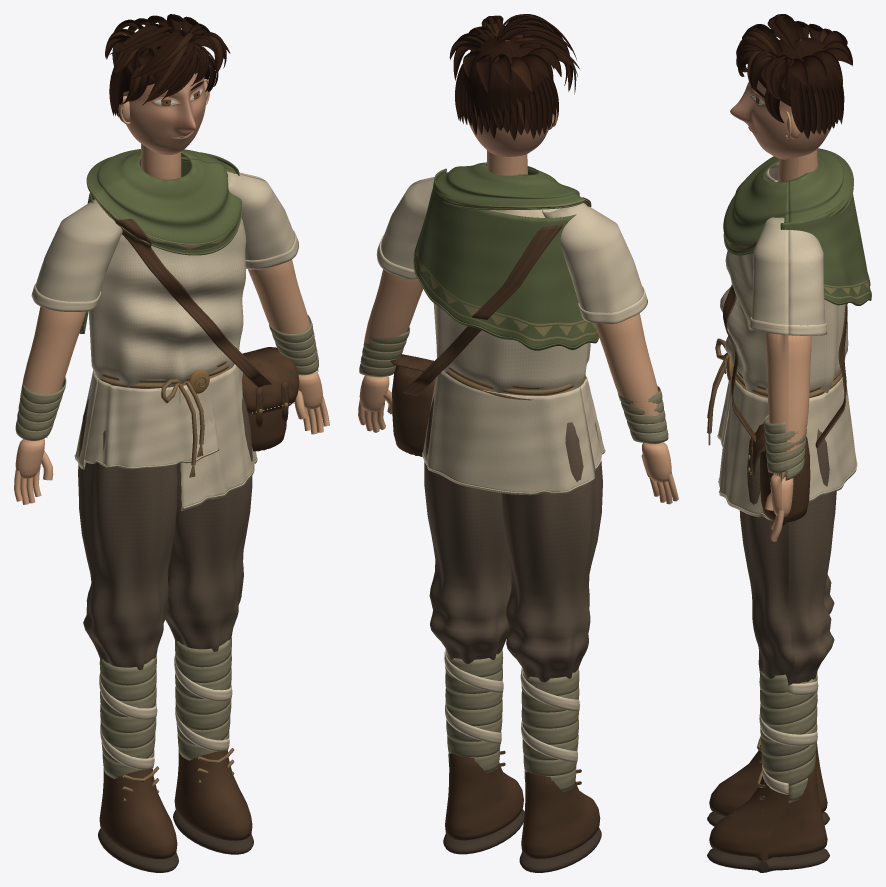
The model's file is ruin-runner-study.glb.
The picture shows the model from 3 angles, left to right: view 1: azimuth 30°, elevation 25°; view 2: azimuth 150°, elevation 25°; view 3: azimuth 270°, elevation 25°; orthographic projection.
Parts seen in each view (by area): view 1: Linen shirt with belt tension folds, Gathered trousers L, Gathered trousers R, Folded asymmetric neck scarf, Cut linen front underlap, Cut linen front wrap, Open short sleeve L, Boot upper L, Boot upper R, Broad calf binding L, Broad calf binding R, Continuous sculpted face skull jaw and nose (+19 smaller); view 2: Separate triangular back mantle, Gathered trousers L, Cut linen back, Gathered trousers R, Linen shirt with belt tension folds, Open short sleeve L, Boot upper L, Boot upper R, Folded asymmetric neck scarf, Broad calf binding L, Broad calf binding R, Arm anatomy L (+17 smaller); view 3: Gathered trousers R, Folded asymmetric neck scarf, Open short sleeve R, Boot upper R, Linen shirt with belt tension folds, Broad calf binding R, Separate triangular back mantle, Arm anatomy R, Cut linen back, Cut linen front wrap, Continuous sculpted face skull jaw and nose, Boot upper L (+21 smaller).
Boxes of the visible parts, <box> form: Linen shirt with belt tension folds: <box>88,177,246,388</box>; Gathered trousers L: <box>78,399,177,669</box>; Gathered trousers R: <box>165,395,252,651</box>; Folded asymmetric neck scarf: <box>86,149,241,255</box>; Cut linen front underlap: <box>84,379,219,469</box>; Cut linen front wrap: <box>179,364,257,510</box>; Open short sleeve L: <box>35,199,122,301</box>; Boot upper L: <box>99,768,177,858</box>; Boot upper R: <box>174,749,252,840</box>; Broad calf binding L: <box>99,655,156,778</box>; Broad calf binding R: <box>175,638,231,760</box>; Continuous sculpted face skull jaw and nose: <box>123,73,206,155</box>; Separate triangular back mantle: <box>414,168,599,350</box>; Gathered trousers L: <box>501,422,602,682</box>; Cut linen back: <box>422,371,595,495</box>; Gathered trousers R: <box>424,396,511,663</box>; Linen shirt with belt tension folds: <box>433,208,590,393</box>; Open short sleeve L: <box>542,203,643,312</box>; Boot upper L: <box>521,771,600,858</box>; Boot upper R: <box>445,753,523,840</box>; Folded asymmetric neck scarf: <box>435,162,590,210</box>; Broad calf binding L: <box>521,668,579,791</box>; Broad calf binding R: <box>445,649,503,772</box>; Arm anatomy L: <box>594,313,661,444</box>; Gathered trousers R: <box>739,429,836,685</box>; Folded asymmetric neck scarf: <box>723,148,853,255</box>; Open short sleeve R: <box>751,217,825,325</box>; Boot upper R: <box>709,766,827,861</box>; Linen shirt with belt tension folds: <box>720,180,848,395</box>; Broad calf binding R: <box>759,671,817,802</box>; Separate triangular back mantle: <box>780,194,871,305</box>; Arm anatomy R: <box>765,332,811,482</box>; Cut linen back: <box>806,377,856,502</box>; Cut linen front wrap: <box>718,374,773,520</box>; Continuous sculpted face skull jaw and nose: <box>730,39,831,159</box>; Boot upper L: <box>709,742,827,816</box>.
Bounding box in the file's own units: 0.699 × 1.74 × 0.3181.
19 materials, 9 textured.
